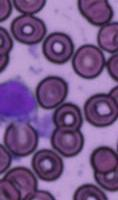L: (1, 76, 38, 124)
